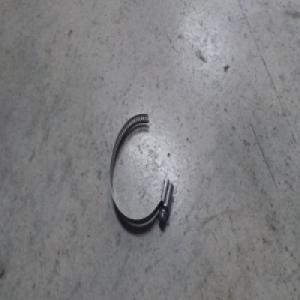AdjustableClamp: (105, 112, 171, 230)
